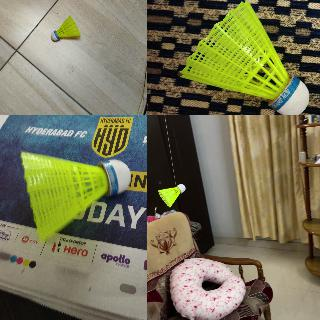shuttlecock: (178, 2, 309, 114), (21, 151, 131, 241), (50, 14, 80, 42), (158, 183, 186, 207)
